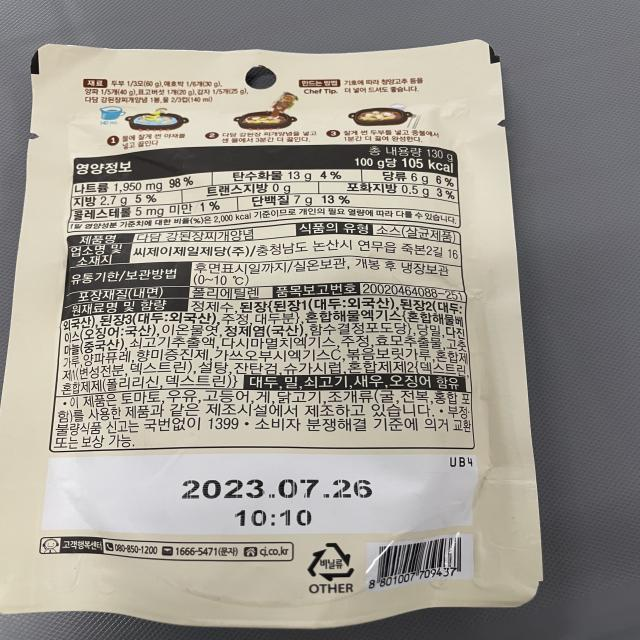object_name: (36, 48, 525, 603)
